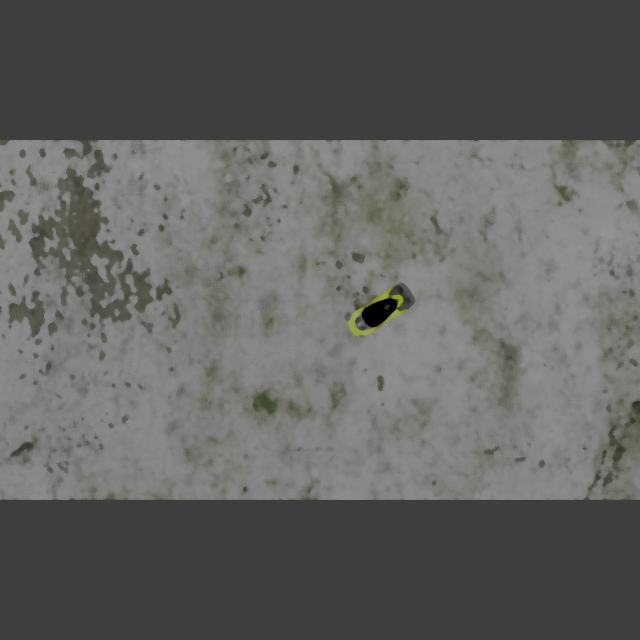car: (341, 281, 415, 343)
